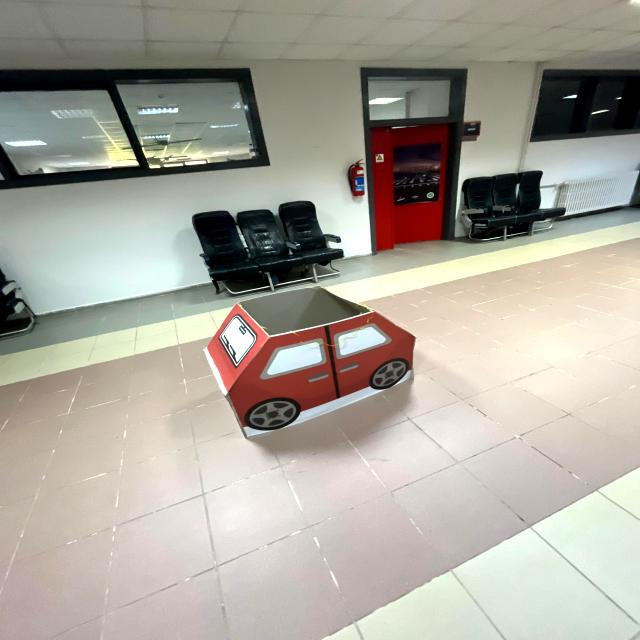red_car: (191, 284, 444, 450)
